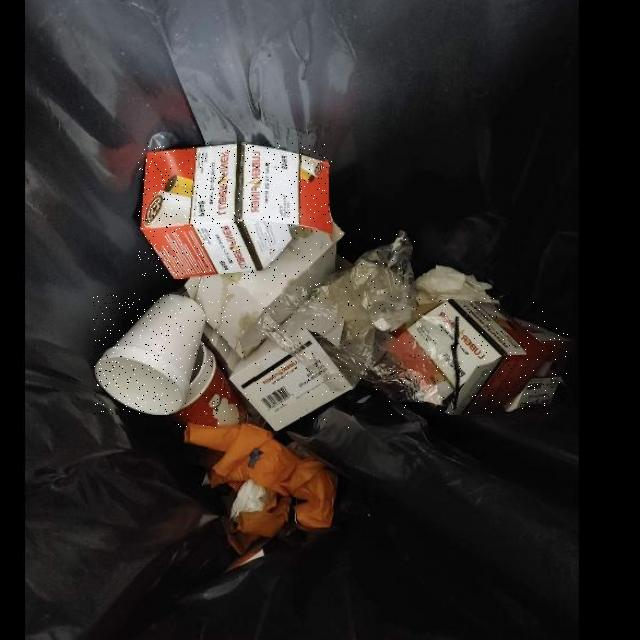paper: (138, 143, 332, 279), (184, 224, 343, 369), (388, 298, 550, 414), (229, 285, 352, 431), (505, 319, 571, 410)
plastic: (255, 229, 419, 389), (170, 341, 267, 428)
styrofoam: (94, 293, 204, 414)
